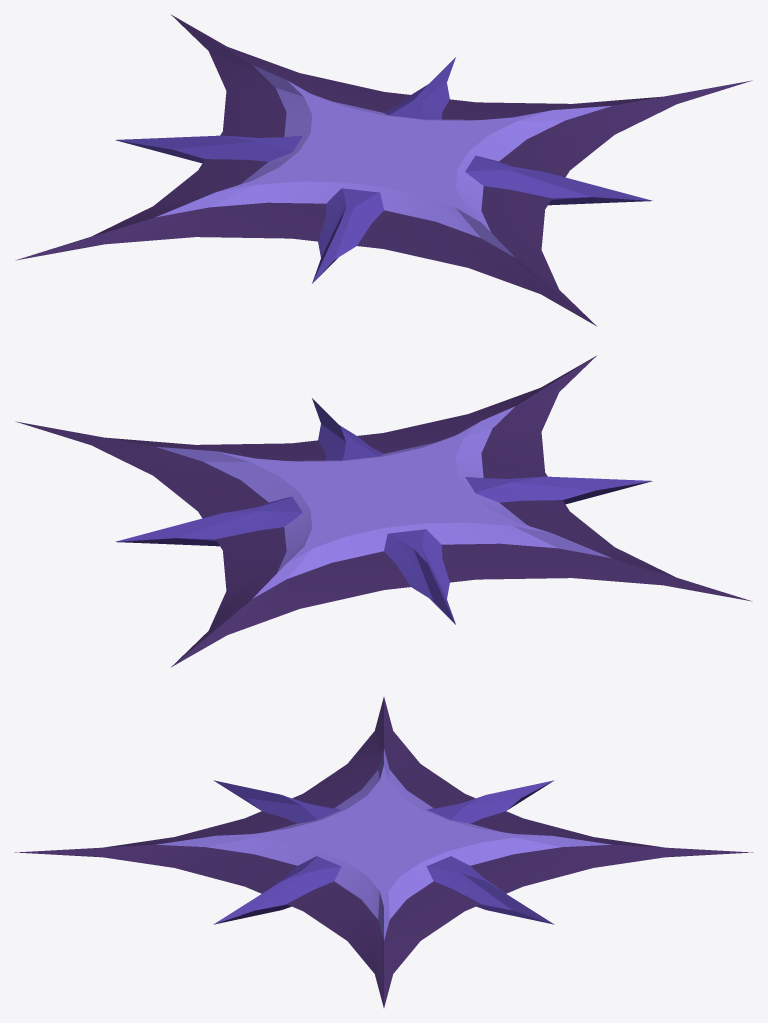
File: gem20.fbx_Collection.fbx
3 views of the same model, one above another, from view 1: azimuth 30°, elevation 25°; view 2: azimuth 150°, elevation 25°; view 3: azimuth 270°, elevation 25° (orthographic). The views are drawn at different scales.
Visible parts, largest first — view 1: Gem20; view 2: Gem20; view 3: Gem20.
Part boxes in pixels (x1,y1,x2,y2): Gem20: (15,14,752,326); Gem20: (15,355,752,667); Gem20: (14,697,753,1007).
Bounding box in the file's own units: 224 × 11.13 × 224.
